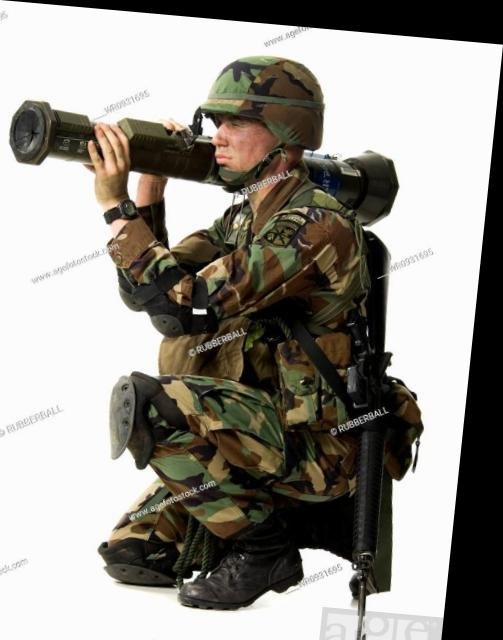other: (108, 44, 428, 601)
